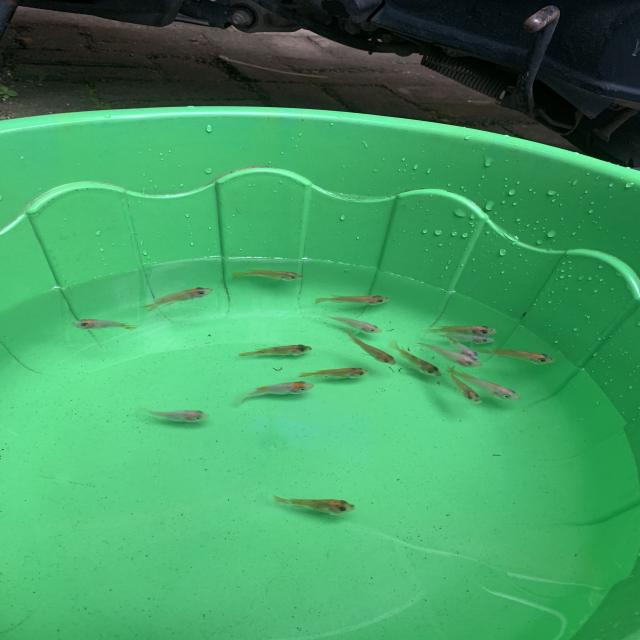nila: (446, 357, 526, 405), (225, 378, 318, 412), (267, 489, 361, 518), (339, 326, 398, 367), (414, 340, 483, 372), (318, 306, 387, 337), (388, 342, 444, 380), (445, 364, 489, 411), (470, 344, 560, 366), (141, 285, 216, 311), (138, 403, 213, 426), (230, 262, 312, 282), (438, 327, 484, 362), (292, 363, 376, 382), (416, 318, 504, 336), (66, 314, 144, 332), (315, 289, 393, 307), (432, 328, 501, 348), (230, 345, 318, 360)
